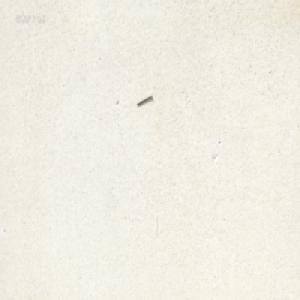Bolt: (135, 92, 152, 105)
